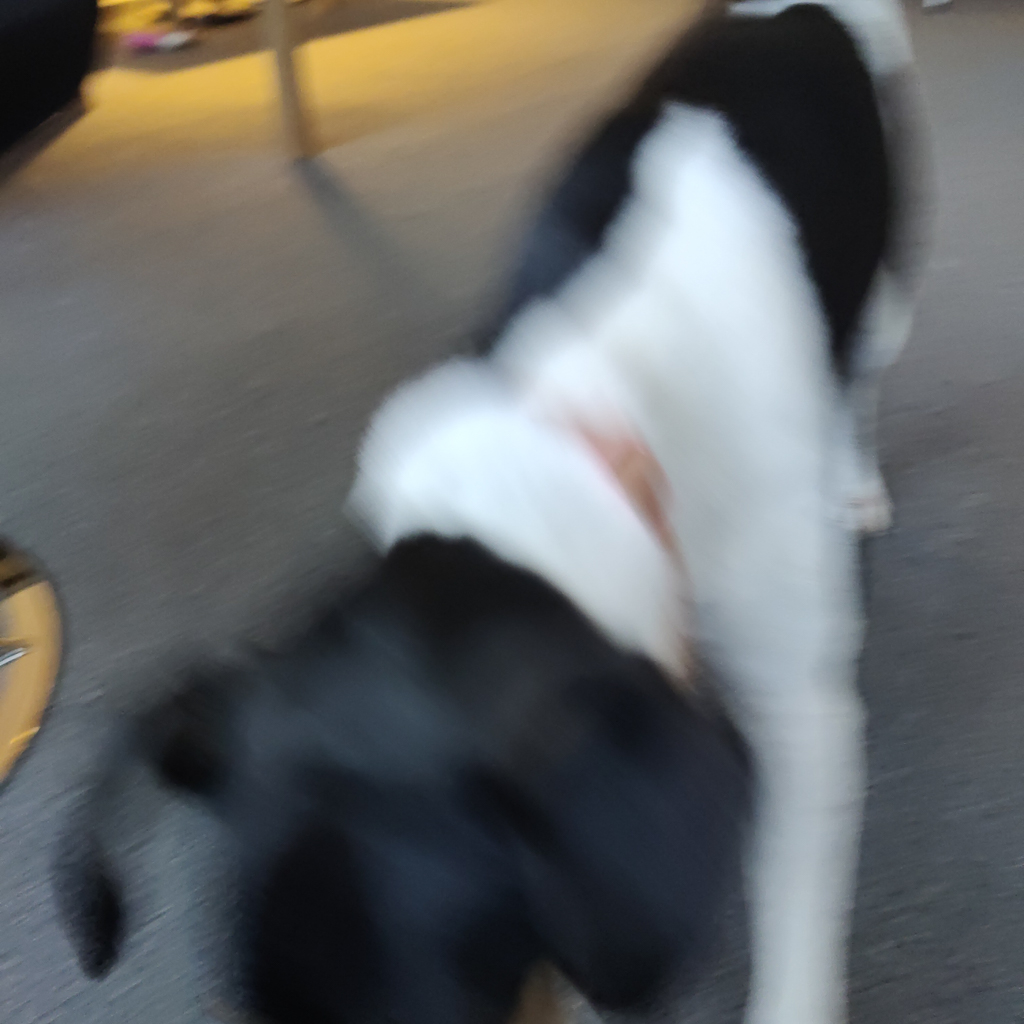Dog: (30, 0, 956, 1024)
